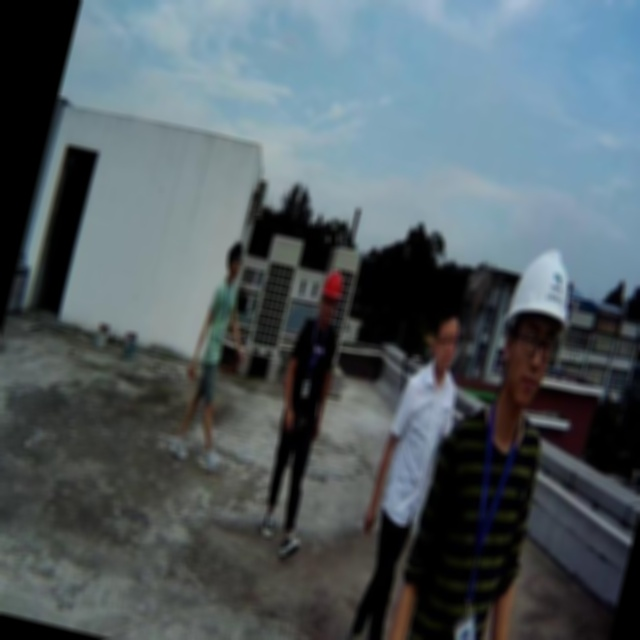Con_Casco: (316, 265, 348, 325)
Sin_Casco_Mascarrilla: (425, 304, 465, 373)
Sin_Chaleco: (364, 356, 463, 543), (274, 315, 345, 442)
